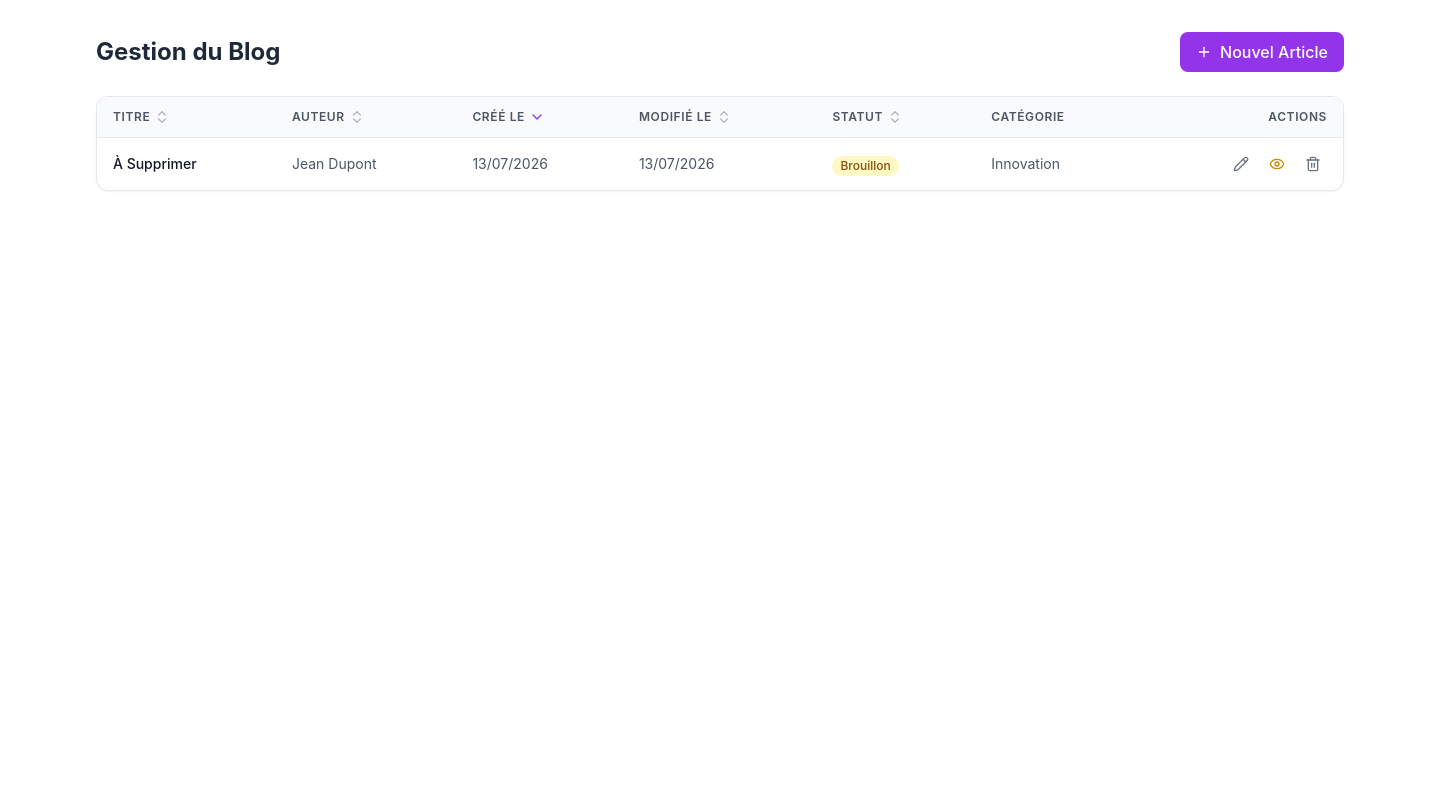
Test case: AdminDashboard › Requirement 7.7 — Confirmation de suppression › ouvre une boîte de dialogue de confirmation au clic sur Supprimer
This screenshot has width=1440, height=810.
Click the button named "supprimer l'article \"à supprimer\"". click: [1313, 164]
box: [1299,150,1327,178]
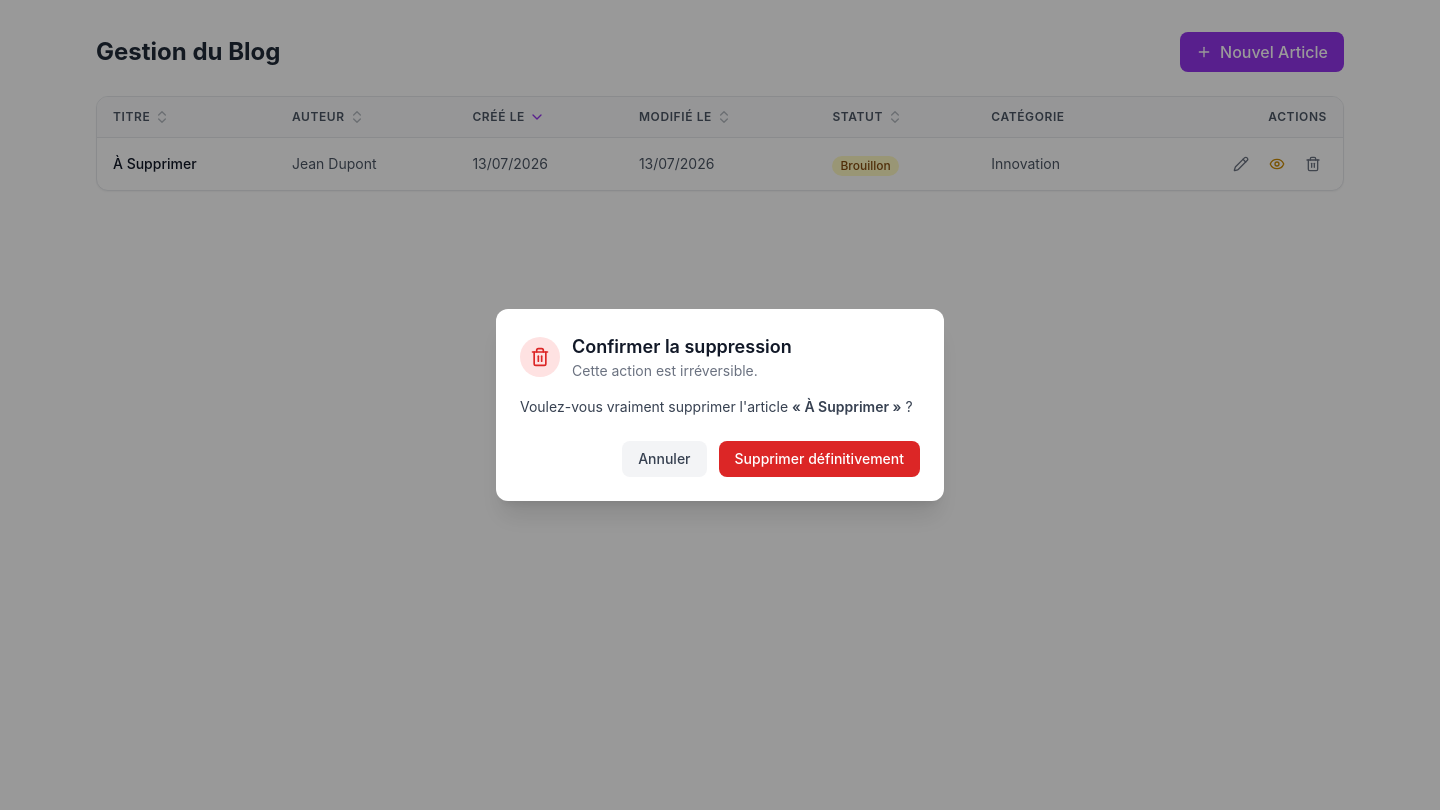
Check: the dialog is shown
Check: the heading "Confirmer la suppression" is shown, box [572,333,792,361]
